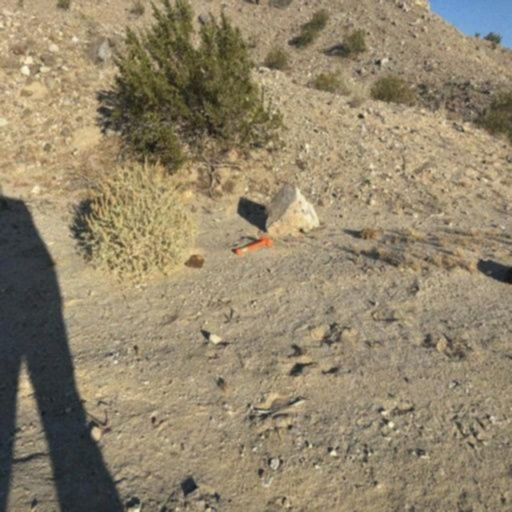mallet: (228, 227, 274, 259)
